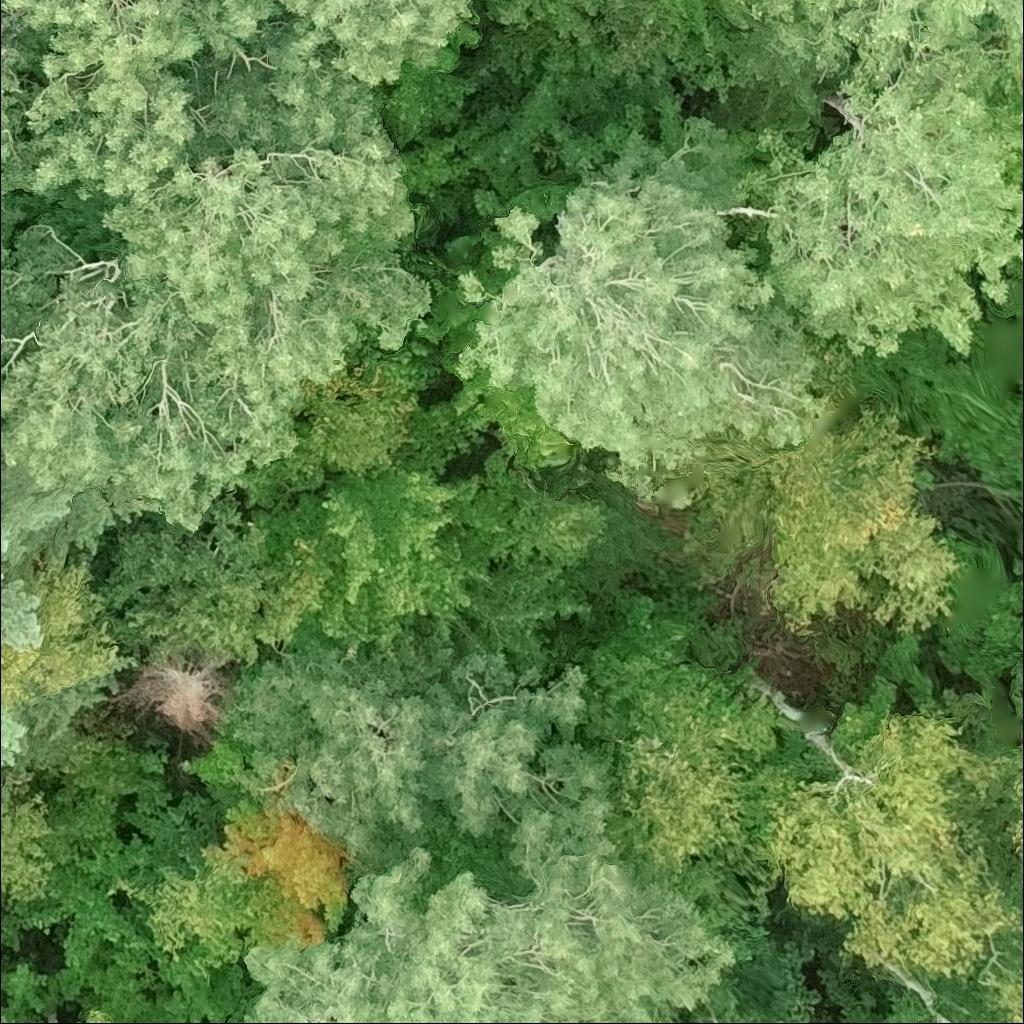crown: (0, 65, 438, 532), (454, 108, 830, 492), (0, 0, 477, 262), (227, 635, 623, 913), (730, 31, 1023, 361), (742, 710, 1023, 979), (376, 833, 742, 1023), (251, 463, 520, 662), (768, 399, 969, 637), (600, 657, 781, 888), (238, 844, 430, 1023), (729, 0, 1023, 83), (236, 785, 363, 931), (261, 387, 415, 505), (0, 556, 113, 707), (0, 461, 77, 656), (0, 21, 42, 260), (0, 769, 59, 900), (997, 742, 1023, 868), (0, 702, 33, 772), (71, 1007, 114, 1023), (0, 915, 16, 949), (1017, 676, 1023, 711), (0, 776, 4, 790)
